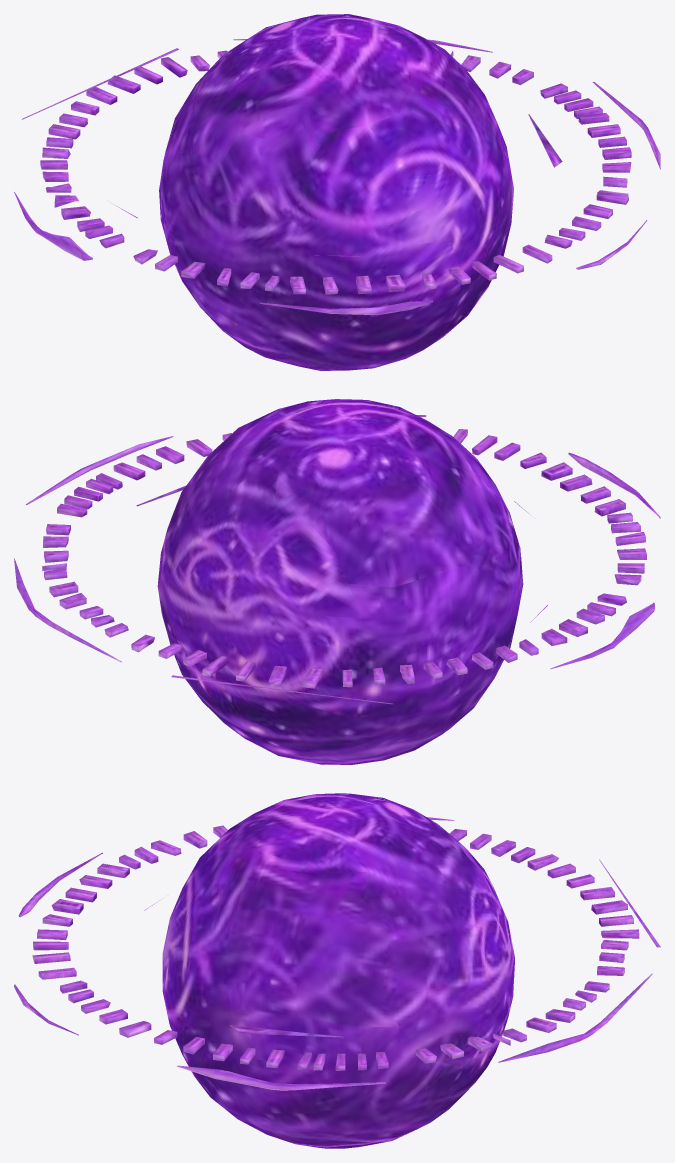
Rendered from bolt_trap.glb.
3 views of the same model, one above another, from view 1: azimuth 30°, elevation 25°; view 2: azimuth 150°, elevation 25°; view 3: azimuth 270°, elevation 25° (orthographic). The views are drawn at different scales.
Parts seen in each view (by area): view 1: bolt_trap; view 2: bolt_trap; view 3: bolt_trap.
Part boxes in pixels (x1,y1,x2,y2): bolt_trap: (14, 14, 660, 370); bolt_trap: (14, 399, 660, 764); bolt_trap: (14, 793, 660, 1148).
Bounding box in the file's own units: 1 × 0.5403 × 0.9903.
Materials: 1 (1 with a texture image).
